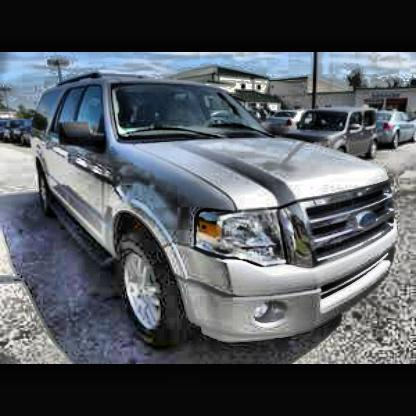Ford Expedition EL SUV 2009: (30, 70, 407, 351)
